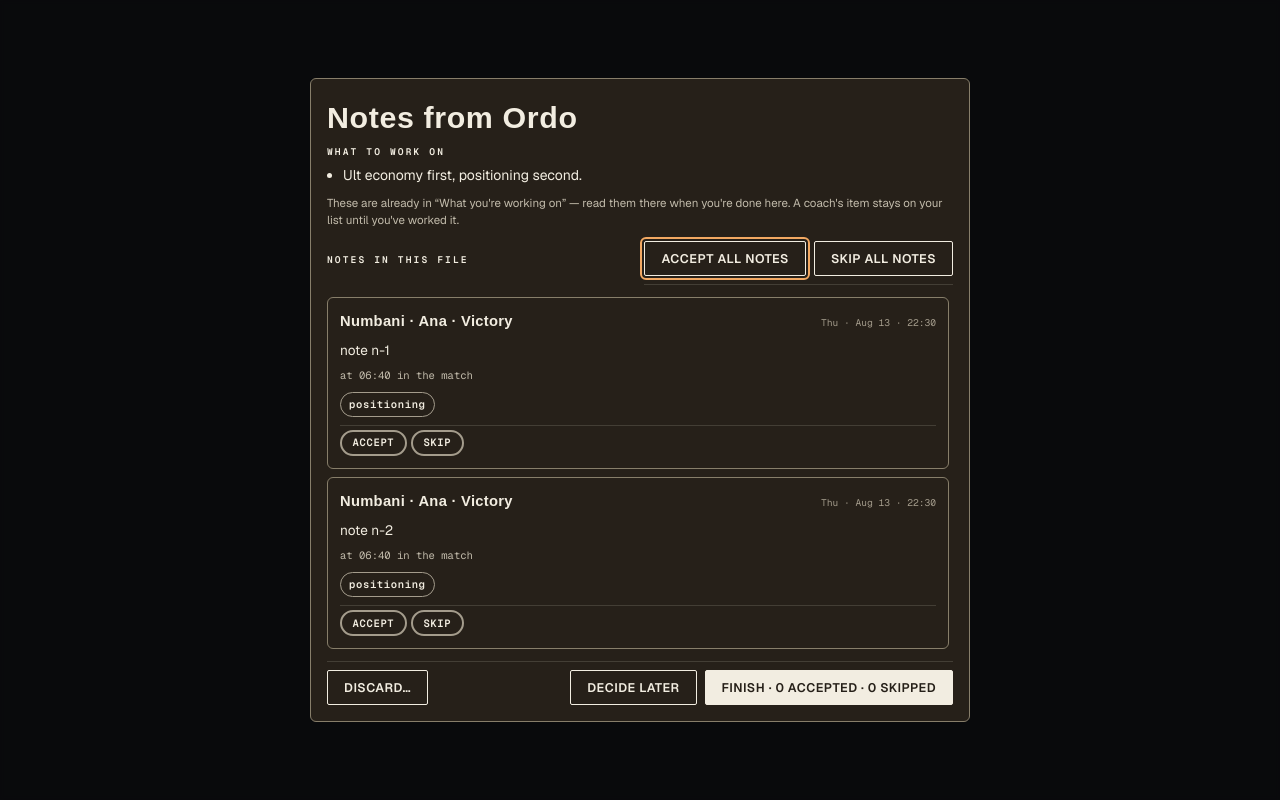
Test: CoachReturnSheet › Accept all sweeps every note; Skip all takes them back
This screenshot has width=1280, height=800.
What coordinates should you click on to do the following:
click the button "Accept all notes"
I would click on:
 (725, 258)
Its box is top-left (644, 240), bottom-right (806, 276).
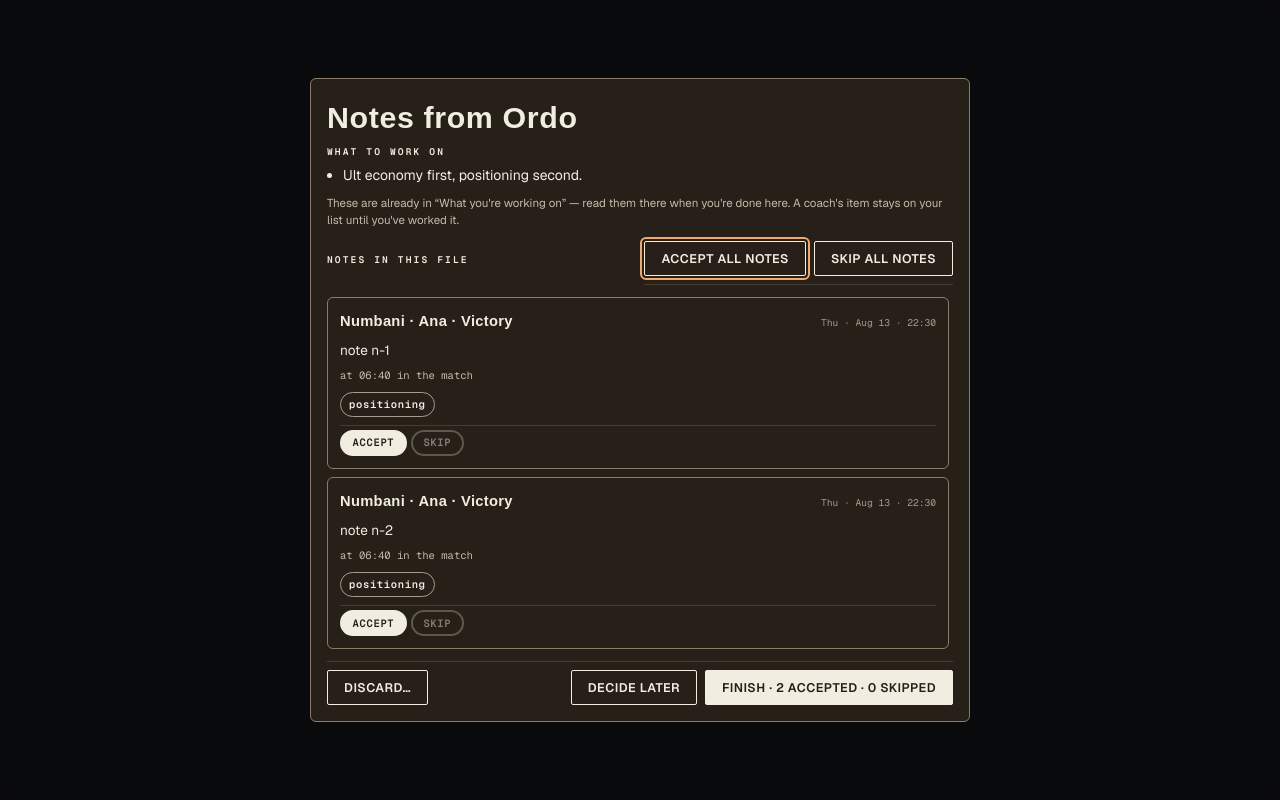
Check: the button "Finish · 2 accepted · 0 skipped" is shown, box top-left (705, 670), bottom-right (953, 705)
What coordinates should you click on to do the following:
click the button "Skip all notes"
I would click on:
 (883, 258)
Its box is top-left (814, 240), bottom-right (953, 276).
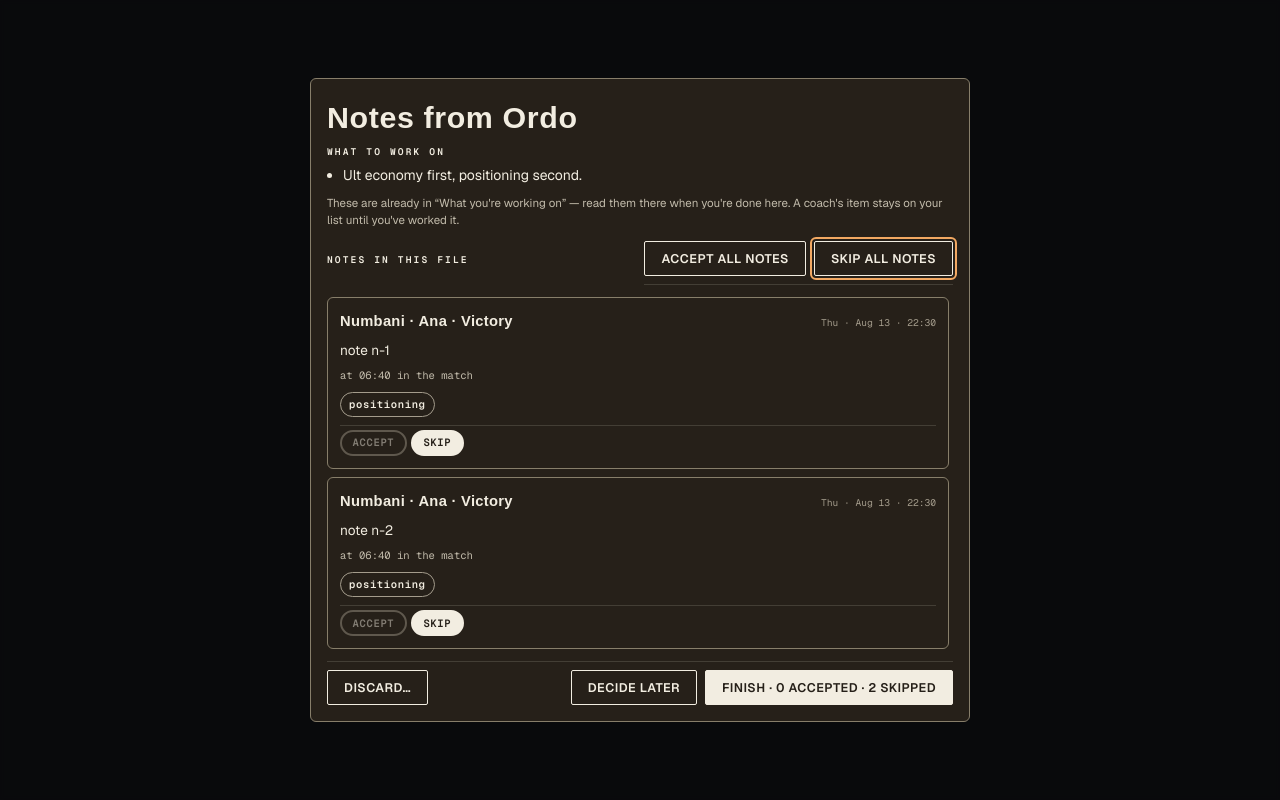
Check: the button "Finish · 0 accepted · 2 skipped" is shown, box top-left (705, 670), bottom-right (953, 705)
